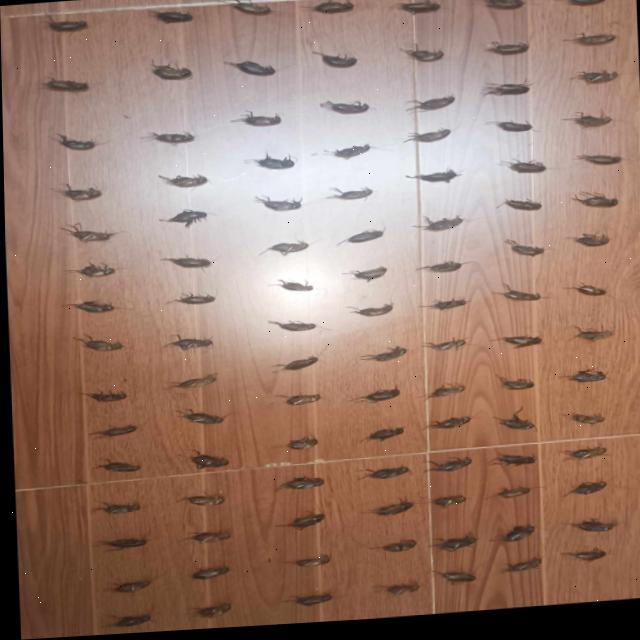no egg: (59, 223, 114, 243), (156, 211, 206, 230), (222, 63, 274, 79), (242, 156, 293, 172), (55, 184, 100, 202), (412, 221, 462, 237), (229, 113, 279, 129), (404, 174, 460, 188), (174, 410, 222, 426), (476, 0, 523, 16), (74, 336, 121, 352), (160, 337, 210, 352), (570, 199, 616, 215), (407, 100, 453, 116), (487, 341, 539, 355), (301, 3, 353, 17), (426, 542, 474, 557), (391, 4, 439, 19), (311, 56, 356, 72), (65, 263, 113, 278), (422, 462, 469, 477), (253, 199, 300, 214), (166, 376, 213, 391), (41, 78, 88, 93), (351, 393, 397, 408), (563, 40, 616, 53), (278, 517, 321, 533), (228, 3, 271, 19), (561, 120, 610, 134), (563, 525, 612, 539), (359, 351, 404, 366), (149, 66, 191, 82), (557, 453, 604, 467), (322, 149, 369, 163), (363, 506, 410, 520), (157, 177, 207, 190), (495, 418, 531, 436), (503, 246, 541, 263), (339, 271, 385, 285), (318, 105, 367, 118), (569, 78, 617, 91), (481, 89, 529, 102), (273, 480, 321, 493), (157, 259, 209, 271), (56, 135, 95, 151), (324, 191, 371, 204), (560, 554, 603, 568), (484, 47, 527, 61), (149, 12, 192, 26), (571, 333, 611, 348), (422, 389, 462, 404), (357, 471, 407, 483), (101, 581, 147, 594), (496, 531, 531, 548), (63, 301, 112, 313), (95, 539, 144, 551), (559, 376, 604, 389), (404, 134, 449, 147), (100, 615, 145, 628), (280, 597, 328, 609), (180, 533, 228, 545), (86, 427, 134, 439), (566, 240, 607, 254), (277, 359, 315, 374), (187, 456, 225, 471), (147, 134, 194, 146), (91, 461, 138, 473), (497, 565, 537, 579), (561, 489, 604, 502), (339, 234, 382, 247), (366, 544, 412, 556), (430, 576, 472, 589), (348, 307, 390, 320), (264, 245, 306, 258), (415, 266, 460, 278), (191, 605, 227, 620), (164, 295, 213, 306), (565, 0, 606, 13), (500, 167, 544, 179), (490, 296, 538, 307), (93, 503, 137, 515), (362, 432, 401, 445), (422, 422, 468, 433), (418, 304, 464, 315), (560, 420, 602, 432), (187, 568, 225, 581), (499, 205, 540, 217), (422, 344, 463, 356), (46, 21, 87, 33), (496, 382, 531, 396), (265, 324, 314, 334), (486, 127, 530, 138), (489, 461, 532, 472), (275, 398, 318, 409), (573, 162, 620, 172), (427, 500, 463, 513), (285, 559, 326, 570), (379, 588, 416, 600), (281, 440, 315, 453), (178, 497, 221, 507), (403, 55, 442, 66), (490, 493, 528, 504), (78, 393, 124, 402), (569, 292, 604, 303), (277, 283, 311, 294)
